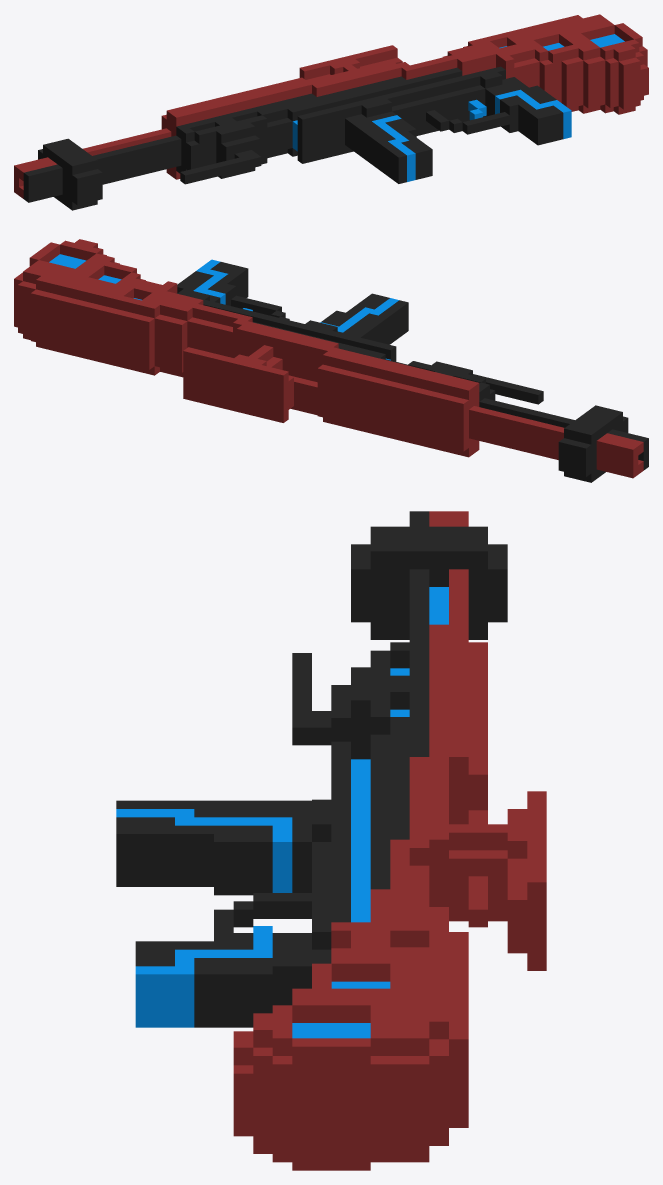
Rendered from gun13.obj.
3 views of the same model, one above another, from view 1: azimuth 30°, elevation 25°; view 2: azimuth 150°, elevation 25°; view 3: azimuth 270°, elevation 25° (orthographic). The views are drawn at different scales.
Bounding box in the file's own units: 6.9 × 0.7 × 2.2.
Materials: 1 (1 with a texture image).
